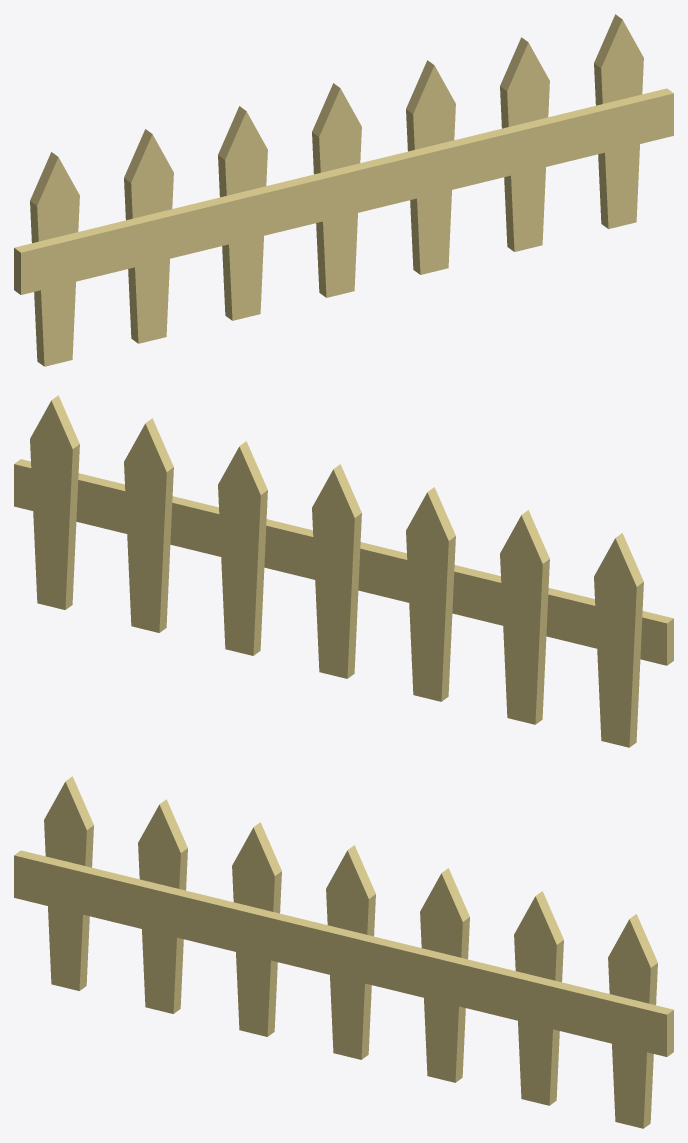
Rendered from ModelFence_02.fbx.
3 renders of one model, top to bottom at view 1: azimuth 30°, elevation 25°; view 2: azimuth 150°, elevation 25°; view 3: azimuth 330°, elevation 25°, orthographic.
Parts seen in each view (by area): view 1: Fence_ita; view 2: Fence_ita; view 3: Fence_ita.
Part boxes in pixels (left/top/right/bottom): Fence_ita: left=14, top=14, right=673, bottom=366; Fence_ita: left=14, top=395, right=673, bottom=747; Fence_ita: left=14, top=776, right=673, bottom=1128.
Size of the model in its own units: 200 by 60.39 by 7.46.
